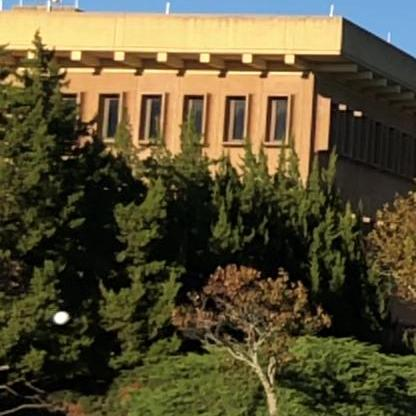golfball: (51, 307, 70, 322)
